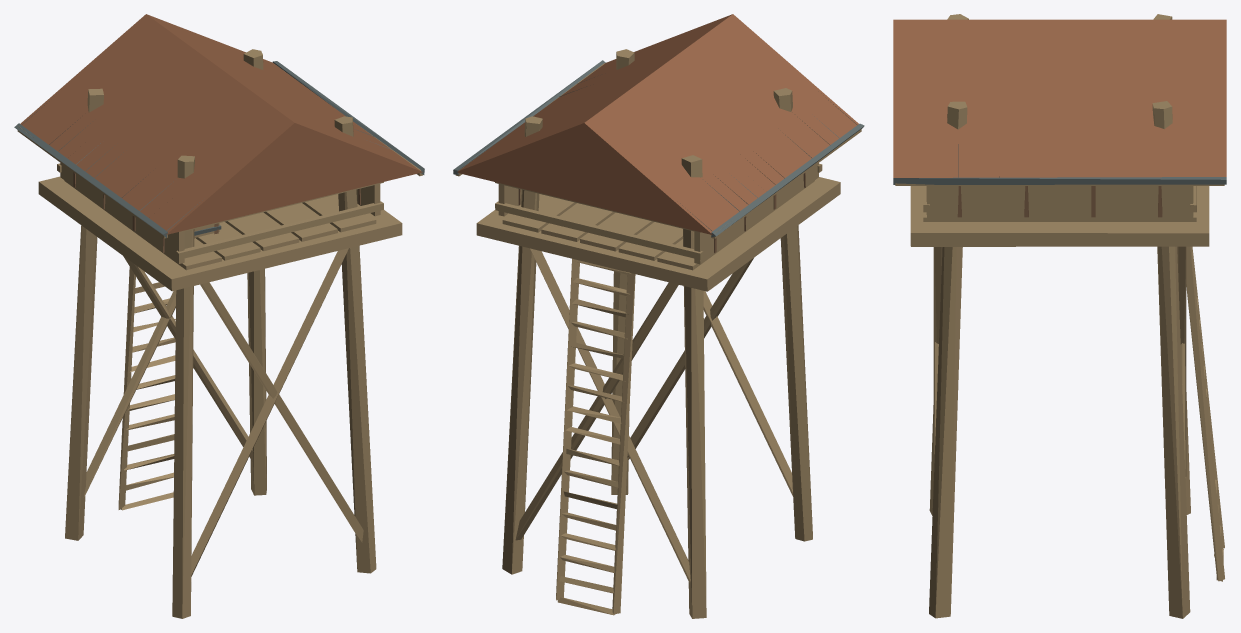
Rendered from watchtower_low.glb.
3 views of the same model, side by side, from view 1: azimuth 30°, elevation 25°; view 2: azimuth 150°, elevation 25°; view 3: azimuth 270°, elevation 25° (orthographic). The views are drawn at different scales.
Visible parts, largest first — view 1: watchtower.001; view 2: watchtower.001; view 3: watchtower.001.
Boxes of the visible parts, x1,y1,x2,y2 form: watchtower.001: (14,14,424,618); watchtower.001: (453,14,864,618); watchtower.001: (893,14,1226,618).
Bounding box in the file's own units: 5.11 × 9.04 × 5.
